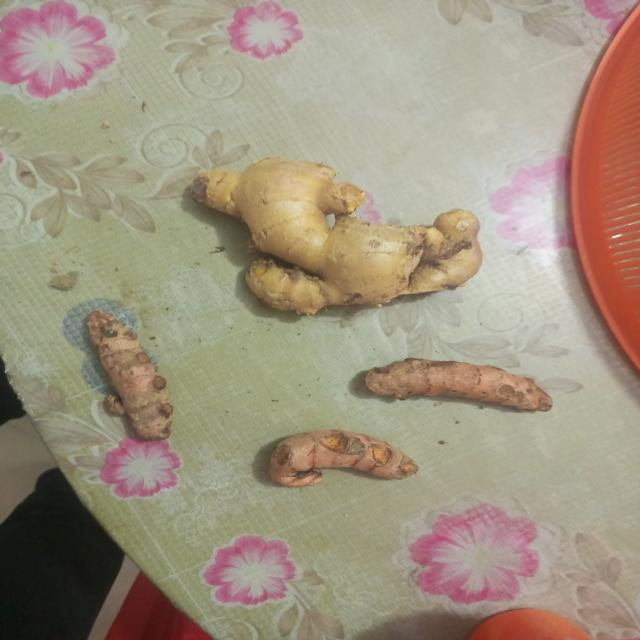ginger: (201, 163, 478, 312), (92, 309, 172, 442), (369, 356, 554, 413), (274, 426, 416, 486)
